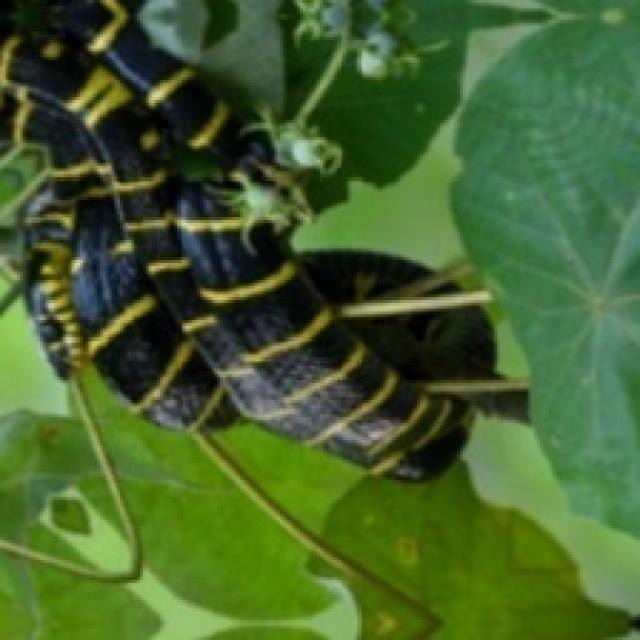mangrove cat snake: (0, 0, 494, 577)
